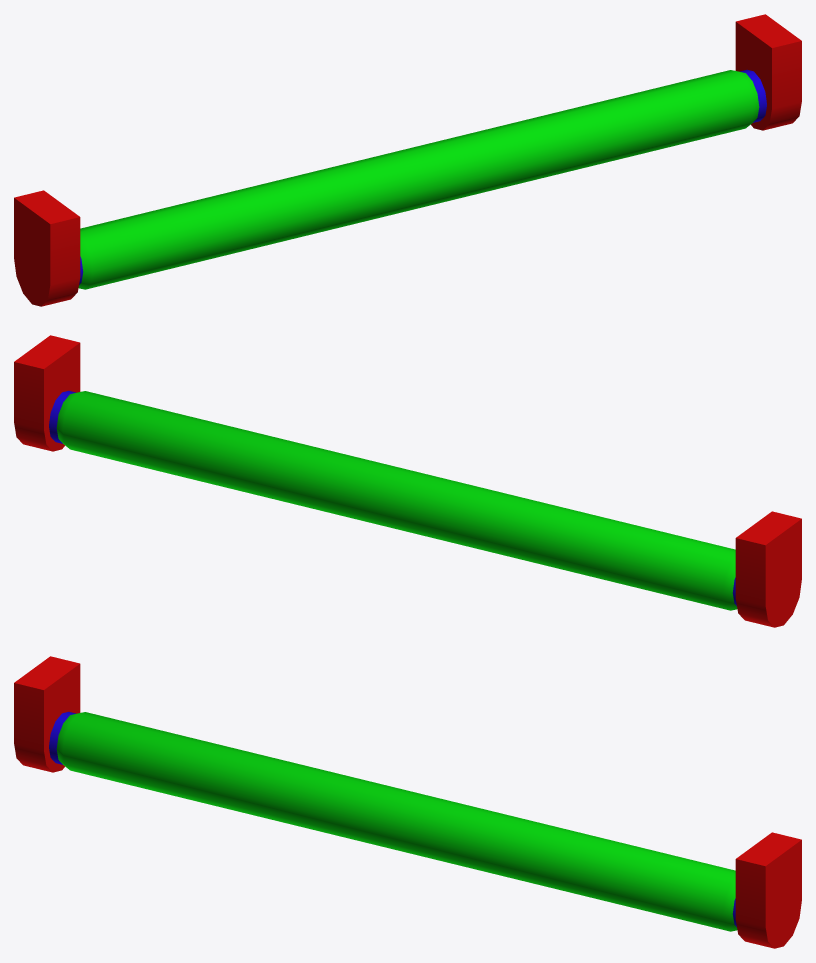
File: light_rod.FBX
3 views of the same model, one above another, from view 1: azimuth 30°, elevation 25°; view 2: azimuth 150°, elevation 25°; view 3: azimuth 330°, elevation 25° (orthographic).
Visible parts, largest first — view 1: Light_rod; view 2: Light_rod; view 3: Light_rod.
Part boxes in pixels (x1=…): Light_rod: x1=14, y1=14, x2=801, y2=306; Light_rod: x1=14, y1=335, x2=801, y2=627; Light_rod: x1=14, y1=656, x2=801, y2=948.
Bounding box in the file's own units: 391 × 46.56 × 32.85.
